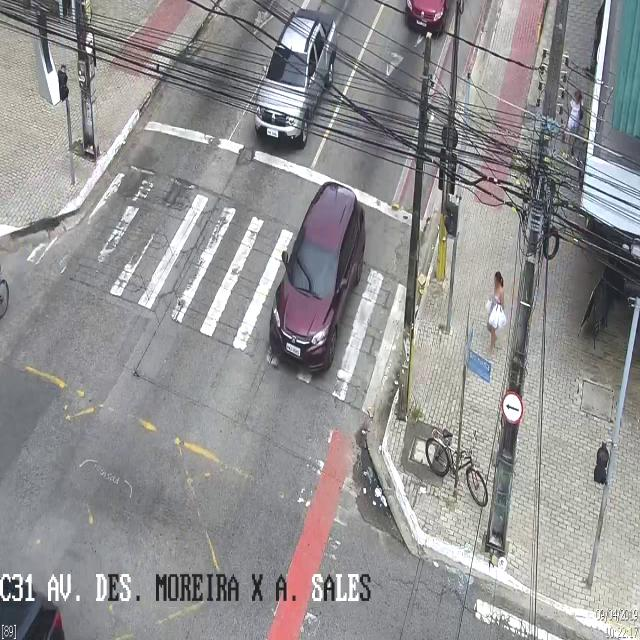Car: (271, 182, 365, 374), (254, 6, 336, 148), (402, 0, 470, 36)
